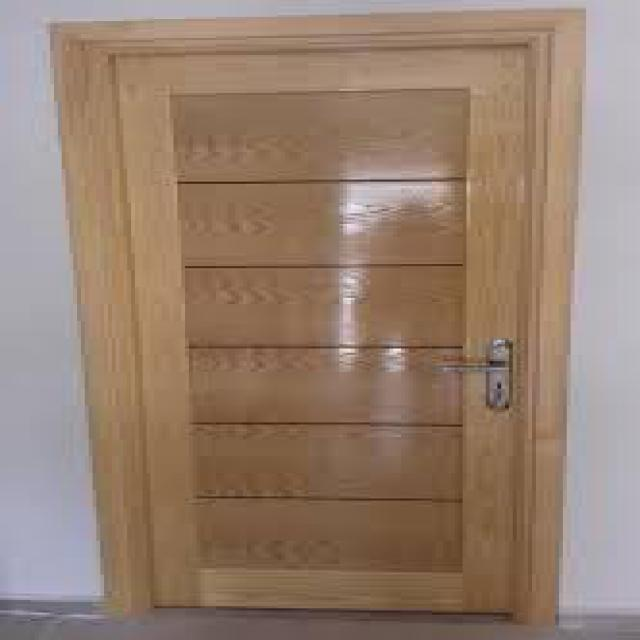close: (39, 6, 586, 638)
